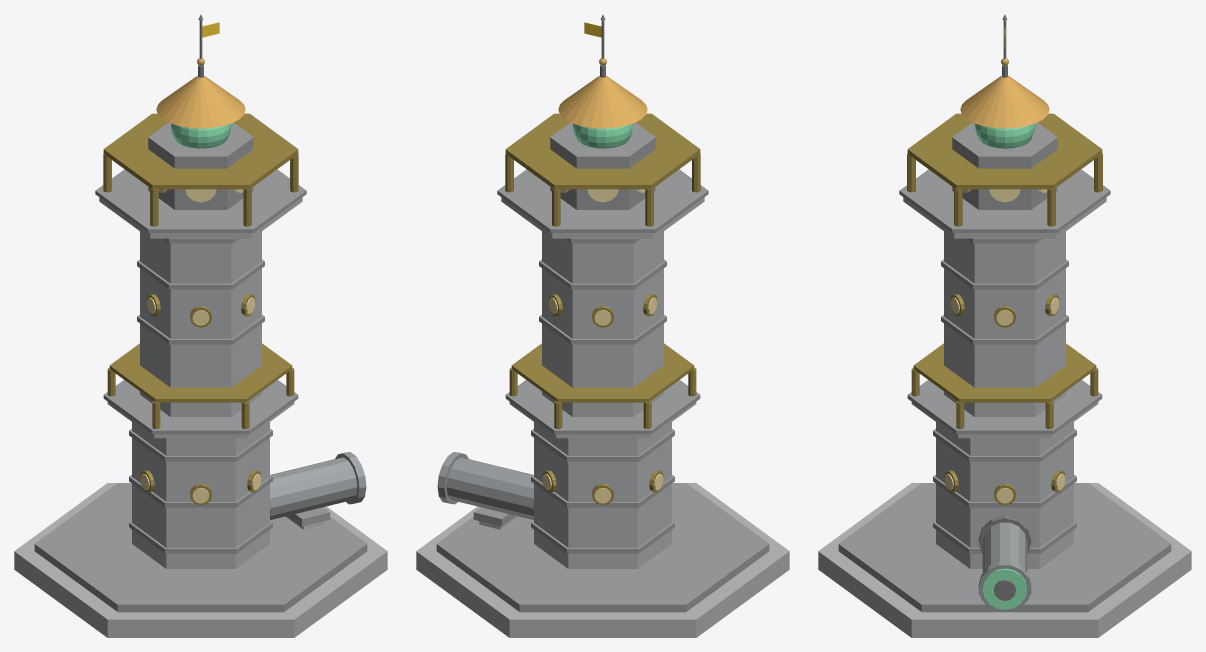
The model's file is beacon_s3_100.glb.
3 renders of one model, left to right at view 1: azimuth 30°, elevation 25°; view 2: azimuth 150°, elevation 25°; view 3: azimuth 270°, elevation 25°, orthographic.
Visible parts, largest first — view 1: BC_BaseCap, BC_Shaft3, BC_Shaft1, BC_Base, BC_PlatRail_Ring, BC_Platform_Trim, BC_Balc1_Trim, BC_Lantern_Room, BC_Balc1_RailRing, BC_PipeStub_0, BC_Dome, BC_Platform_Base (+8 smaller); view 2: BC_BaseCap, BC_Shaft3, BC_Shaft1, BC_Base, BC_PlatRail_Ring, BC_Platform_Trim, BC_Balc1_Trim, BC_Lantern_Room, BC_Balc1_RailRing, BC_PipeStub_0, BC_Dome, BC_Platform_Base (+8 smaller); view 3: BC_BaseCap, BC_Shaft3, BC_Base, BC_Shaft1, BC_PlatRail_Ring, BC_Platform_Trim, BC_Balc1_Trim, BC_Lantern_Room, BC_Balc1_RailRing, BC_Dome, BC_PipeStub_0, BC_Platform_Base (+9 smaller).
Boxes of the visible parts, x1=… form: BC_BaseCap: x1=34, y1=483, x2=367, y2=612; BC_Shaft3: x1=140, y1=231, x2=261, y2=416; BC_Shaft1: x1=132, y1=422, x2=269, y2=568; BC_Base: x1=14, y1=483, x2=387, y2=637; BC_PlatRail_Ring: x1=103, y1=113, x2=298, y2=189; BC_Platform_Trim: x1=95, y1=169, x2=306, y2=232; BC_Balc1_Trim: x1=103, y1=380, x2=298, y2=434; BC_Lantern_Room: x1=148, y1=122, x2=253, y2=209; BC_Balc1_RailRing: x1=109, y1=343, x2=292, y2=402; BC_PipeStub_0: x1=270, y1=457, x2=357, y2=519; BC_Dome: x1=156, y1=75, x2=245, y2=128; BC_Platform_Base: x1=99, y1=197, x2=302, y2=238; BC_BaseCap: x1=436, y1=483, x2=769, y2=612; BC_Shaft3: x1=542, y1=231, x2=663, y2=416; BC_Shaft1: x1=534, y1=422, x2=671, y2=568; BC_Base: x1=416, y1=483, x2=789, y2=637; BC_PlatRail_Ring: x1=505, y1=113, x2=700, y2=189; BC_Platform_Trim: x1=497, y1=169, x2=708, y2=232; BC_Balc1_Trim: x1=505, y1=380, x2=700, y2=434; BC_Lantern_Room: x1=550, y1=122, x2=655, y2=209; BC_Balc1_RailRing: x1=511, y1=343, x2=694, y2=402; BC_PipeStub_0: x1=446, y1=457, x2=533, y2=519; BC_Dome: x1=558, y1=75, x2=647, y2=128; BC_Platform_Base: x1=501, y1=197, x2=704, y2=238; BC_BaseCap: x1=838, y1=483, x2=1171, y2=612; BC_Shaft3: x1=944, y1=231, x2=1065, y2=416; BC_Base: x1=818, y1=483, x2=1191, y2=637; BC_Shaft1: x1=936, y1=422, x2=1073, y2=568; BC_PlatRail_Ring: x1=907, y1=113, x2=1102, y2=189; BC_Platform_Trim: x1=899, y1=169, x2=1110, y2=232; BC_Balc1_Trim: x1=907, y1=380, x2=1102, y2=434; BC_Lantern_Room: x1=952, y1=122, x2=1057, y2=209; BC_Balc1_RailRing: x1=913, y1=343, x2=1096, y2=402; BC_Dome: x1=960, y1=75, x2=1049, y2=128; BC_PipeStub_0: x1=982, y1=522, x2=1027, y2=572; BC_Platform_Base: x1=903, y1=197, x2=1106, y2=238.
Bounding box in the file's own units: 1.69 × 3.02 × 1.84.
